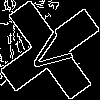V: (25, 25, 81, 79)
